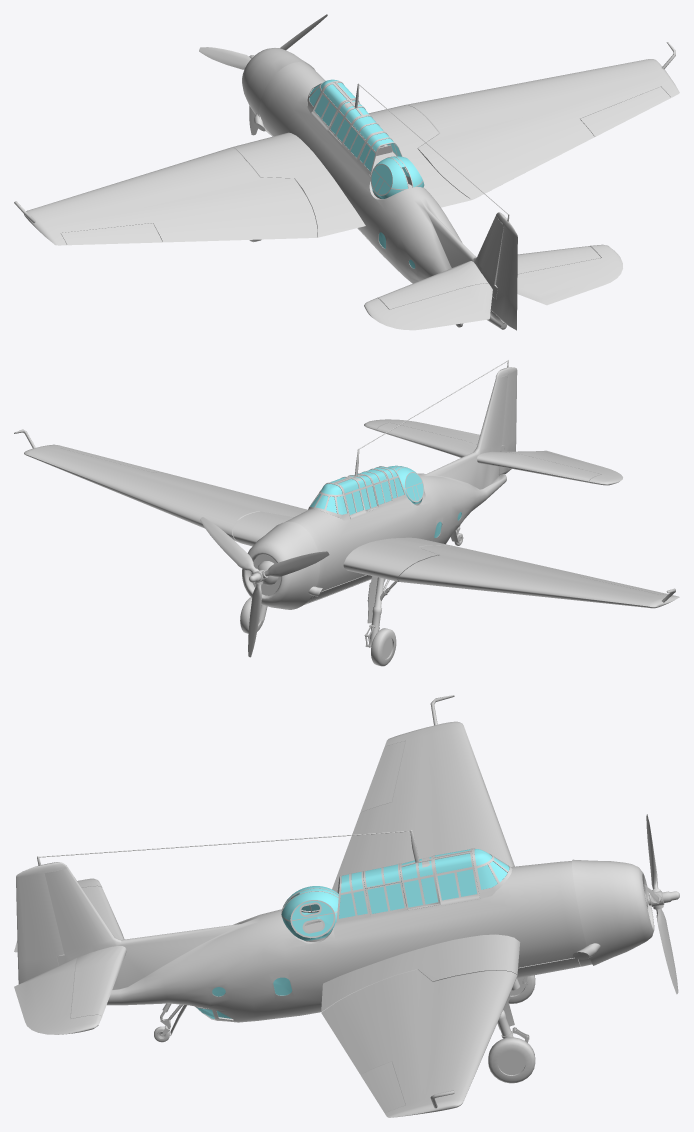
The model's file is TBM-3 Avenger_landing.fbx.
3 renders of one model, top to bottom at view 1: azimuth 30°, elevation 25°; view 2: azimuth 150°, elevation 25°; view 3: azimuth 270°, elevation 25°, orthographic. The views are drawn at different scales.
Visible parts, largest first — view 1: Bodywork, wing_L.006, wing_L.005, slider_R_2.001, elevators.003, elevators.002, rudder, spinner; view 2: Bodywork, wing_L.006, wing_L.005, slider_R_2.001, spinner, rudder, elevators.003, elevators.002; view 3: Bodywork, wing_L.006, wing_L.005, slider_R_2.001, rudder, elevators.002, spinner, frame, slider_R.
Boxes of the visible parts, x1=… form: Bodywork: x1=233, y1=48, x2=600, y2=329; wing_L.006: x1=404, y1=42, x2=679, y2=199; wing_L.005: x1=14, y1=147, x2=317, y2=245; slider_R_2.001: x1=309, y1=79, x2=424, y2=268; elevators.003: x1=364, y1=283, x2=492, y2=330; elevators.002: x1=517, y1=244, x2=622, y2=305; rudder: x1=490, y1=212, x2=517, y2=330; spinner: x1=199, y1=14, x2=327, y2=135; Bodywork: x1=233, y1=360, x2=600, y2=666; wing_L.006: x1=14, y1=429, x2=307, y2=543; wing_L.005: x1=398, y1=545, x2=679, y2=608; slider_R_2.001: x1=310, y1=465, x2=461, y2=537; spinner: x1=200, y1=517, x2=329, y2=657; rudder: x1=496, y1=360, x2=517, y2=475; elevators.003: x1=500, y1=450, x2=622, y2=485; elevators.002: x1=364, y1=419, x2=479, y2=444; Bodywork: x1=39, y1=830, x2=654, y2=1083; wing_L.006: x1=321, y1=969, x2=517, y2=1117; wing_L.005: x1=332, y1=695, x2=514, y2=892; slider_R_2.001: x1=196, y1=849, x2=509, y2=1018; rudder: x1=16, y1=856, x2=67, y2=984; elevators.002: x1=14, y1=958, x2=102, y2=1034; spinner: x1=644, y1=814, x2=679, y2=994; frame: x1=281, y1=888, x2=338, y2=941; slider_R: x1=433, y1=852, x2=479, y2=905.
Size of the model in its own units: 1745 by 1236 by 435.
